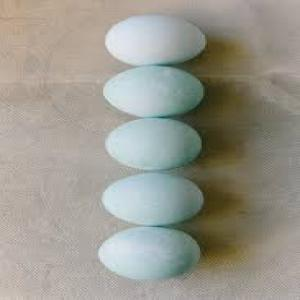Egg: (97, 225, 204, 282), (102, 170, 208, 226), (101, 64, 206, 120), (103, 13, 209, 67), (105, 116, 206, 172)
